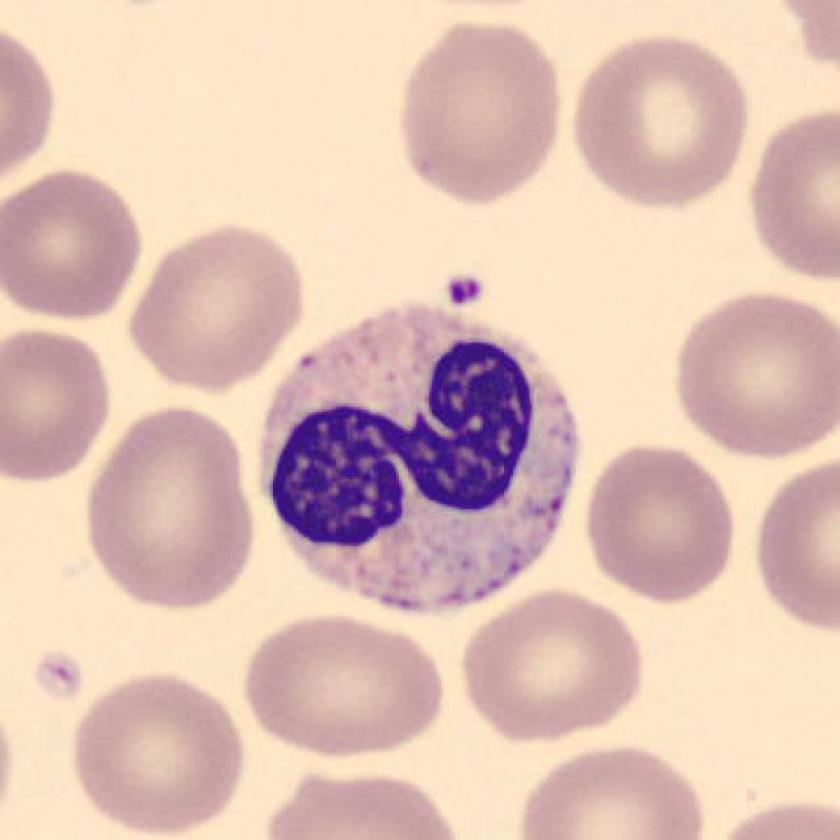neutrophil: (261, 306, 574, 609)
